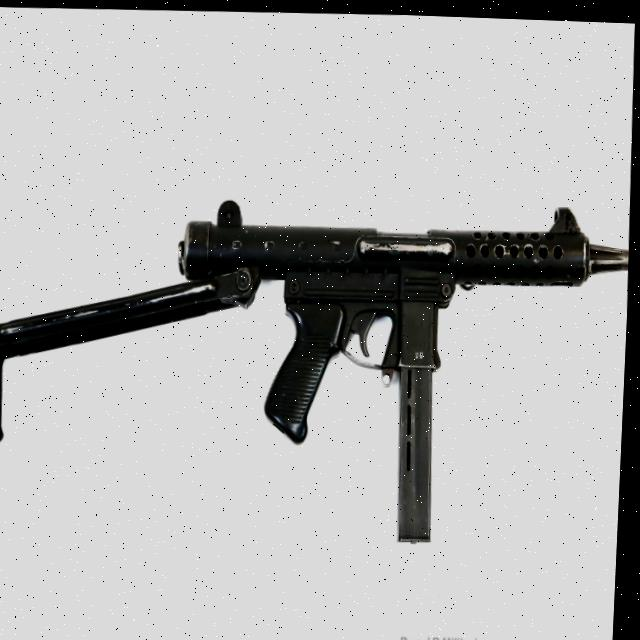firearm: (0, 180, 634, 554)
